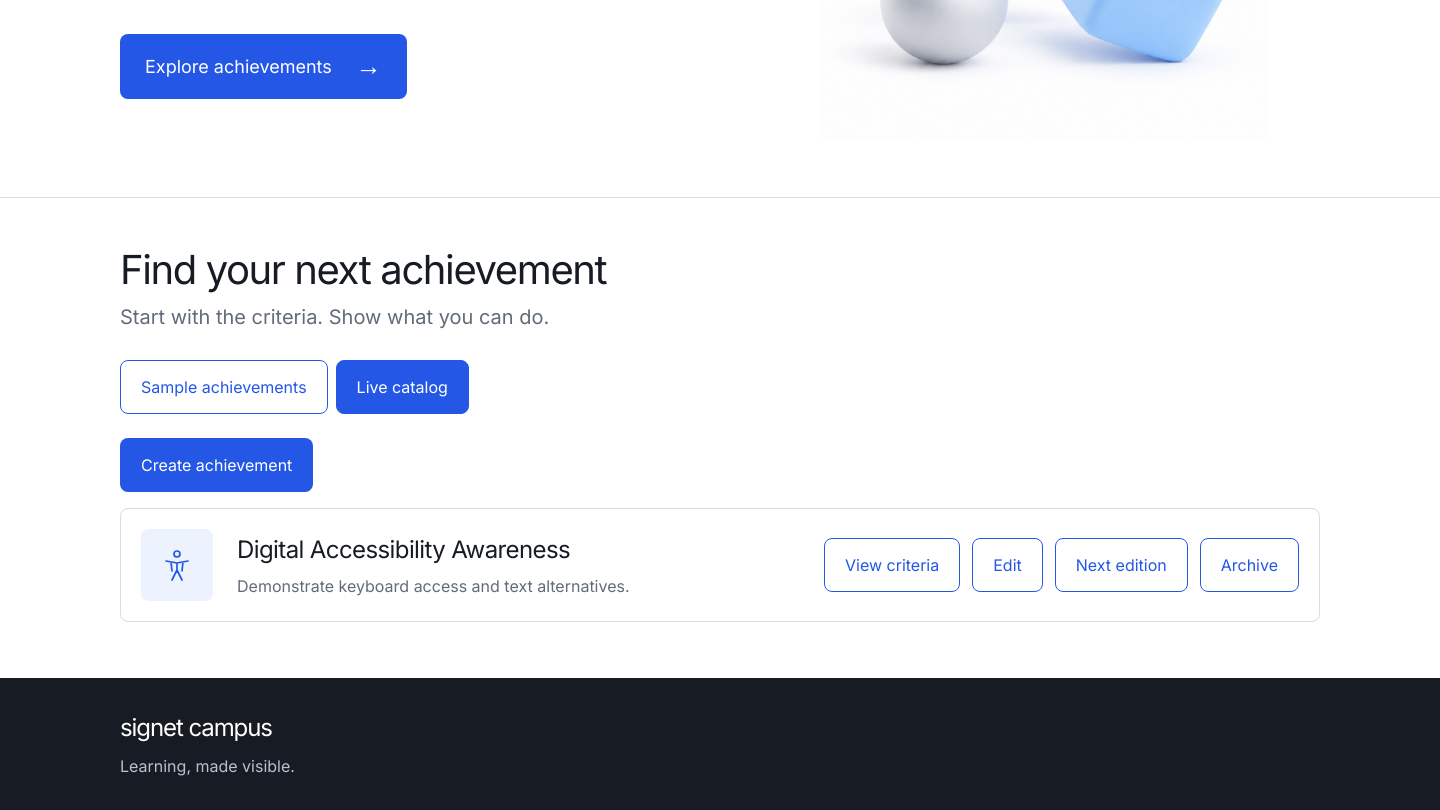
Scenario: opens reviewer criteria even when the separate public catalog request fails
The image size is (1440, 810).
(page scrolled)
What coordinates should you click on to do the following:
click the button "View criteria"
I would click on:
 (892, 565)
Its box is [824,538,960,592].
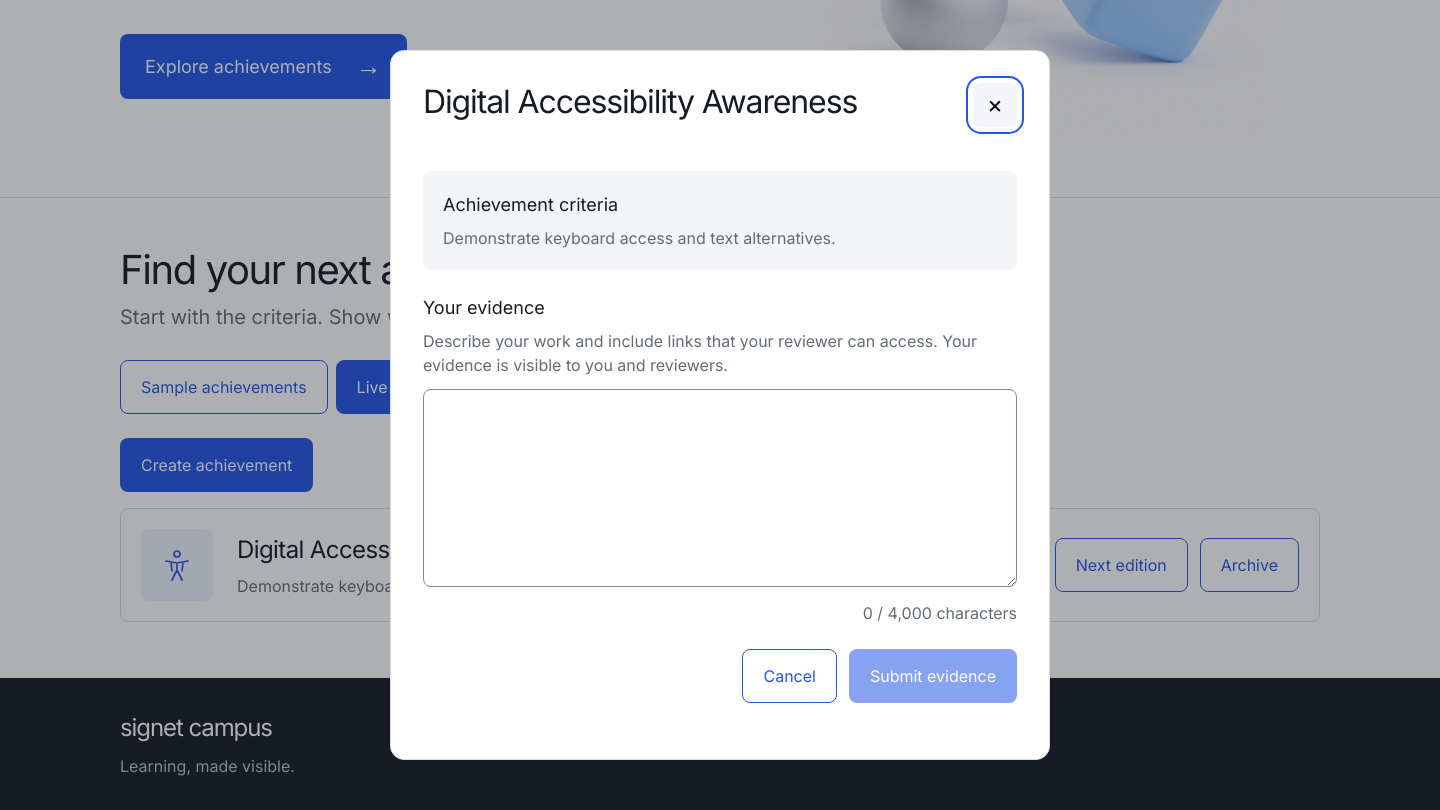
Expected: the dialog shows "Demonstrate keyboard access and text alternatives.", [443,228,836,248]
